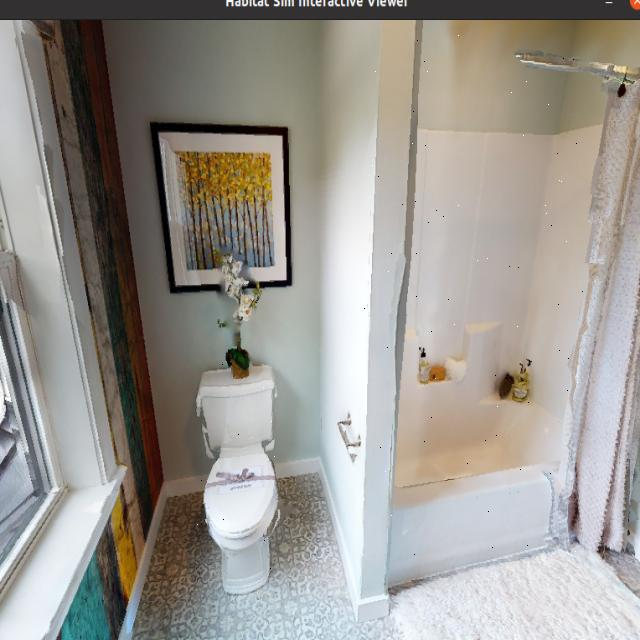shower: (363, 27, 584, 555)
toilet: (193, 355, 286, 591)
